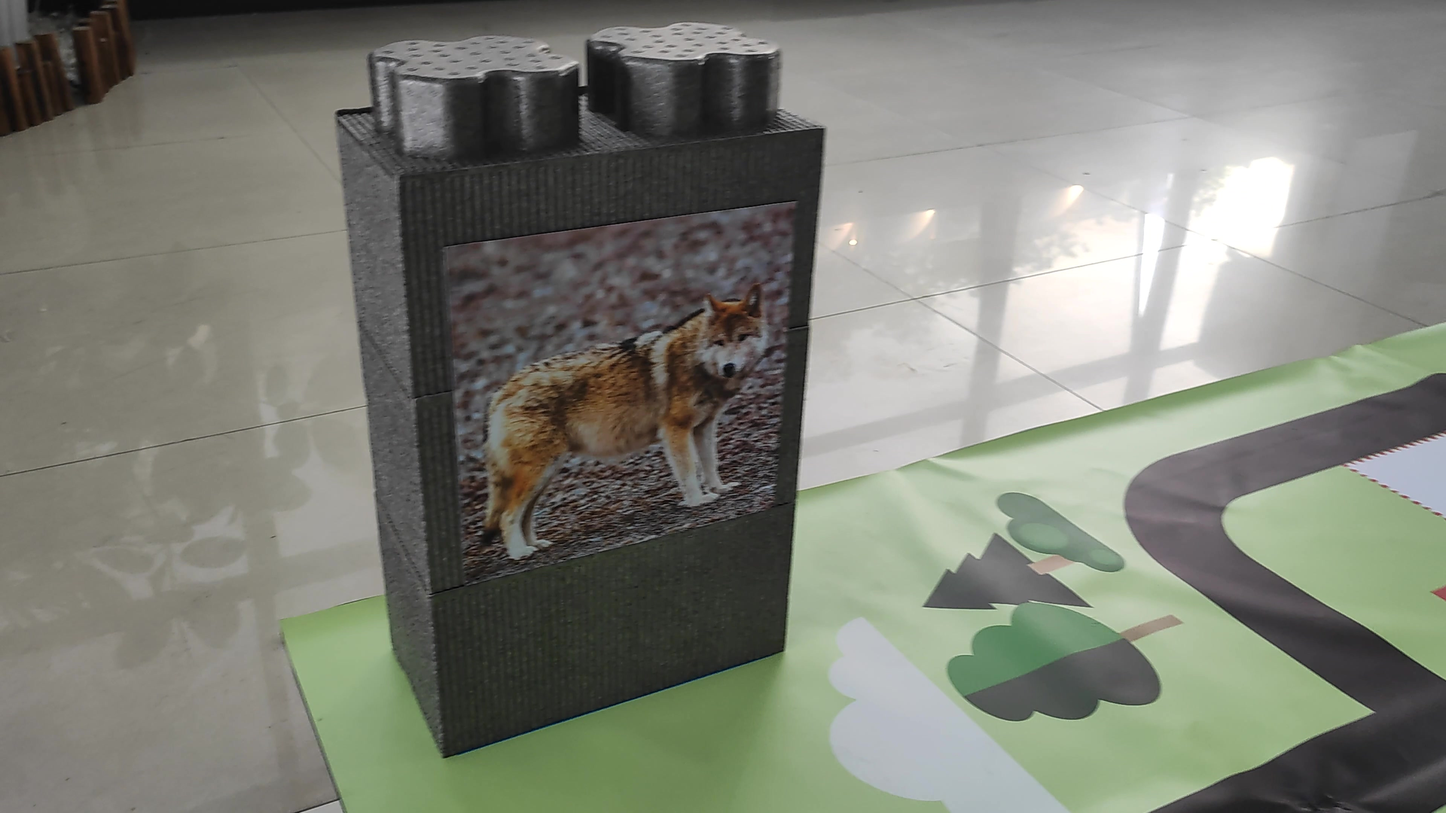wolf: (450, 266, 802, 583)
